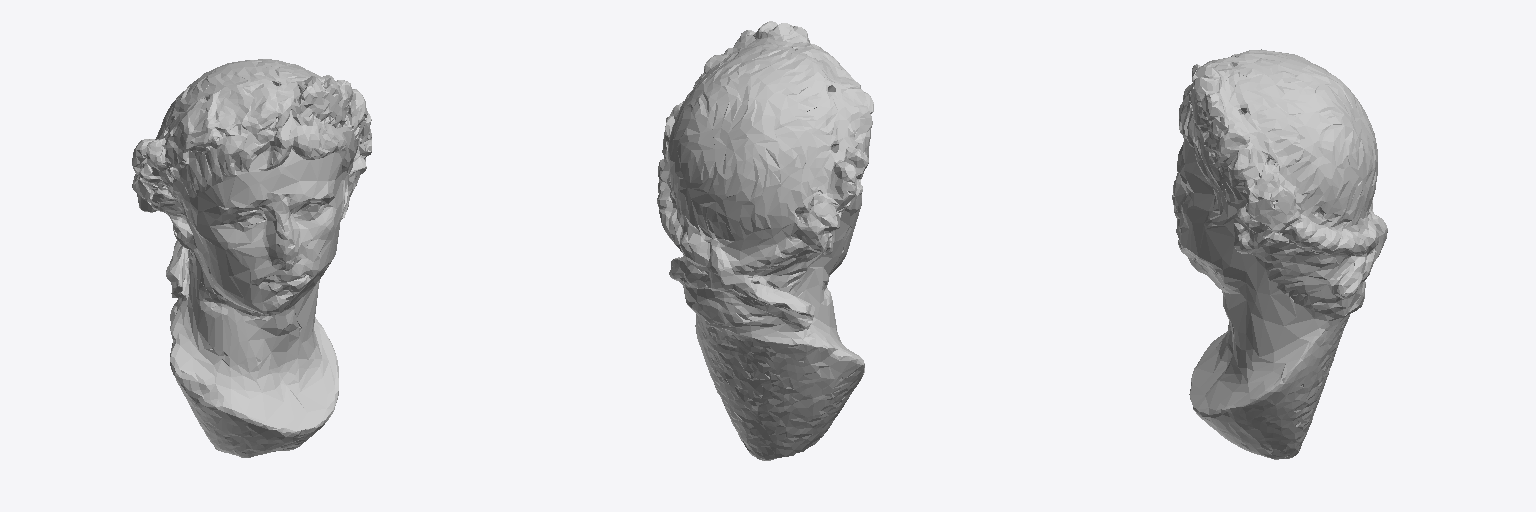
The model's file is Auguste.obj.
The picture shows the model from 3 angles: view 1: azimuth 30°, elevation 25°; view 2: azimuth 150°, elevation 25°; view 3: azimuth 270°, elevation 25°; orthographic projection.
Parts seen in each view (by area): view 1: Default; view 2: Default; view 3: Default.
Part boxes in pixels (x1,y1,x2,y2): Default: (132,59,371,457); Default: (657,21,873,460); Default: (1172,49,1387,459).
Bounding box in the file's own units: 288 × 522 × 255.